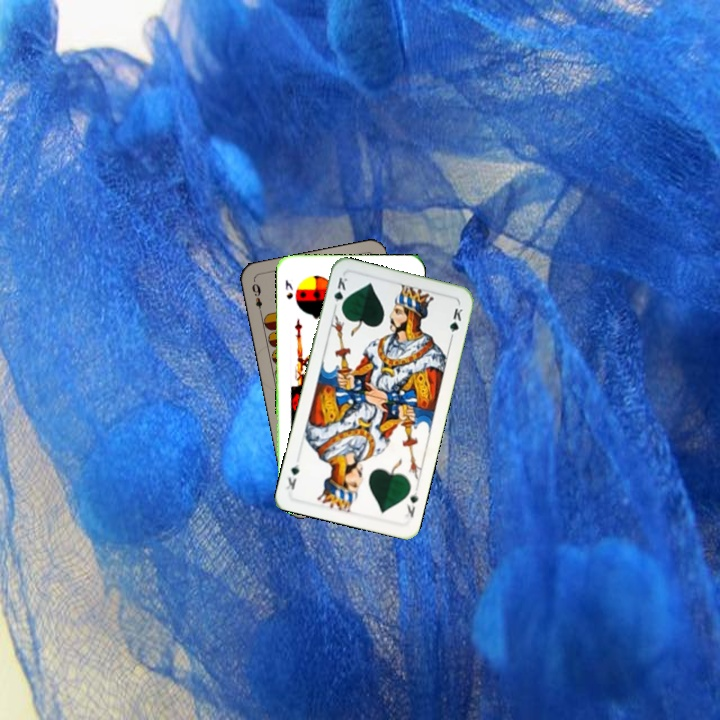E9: (248, 277, 265, 318)
GK: (330, 273, 350, 313), (401, 488, 421, 520)
SK: (281, 276, 295, 301)
